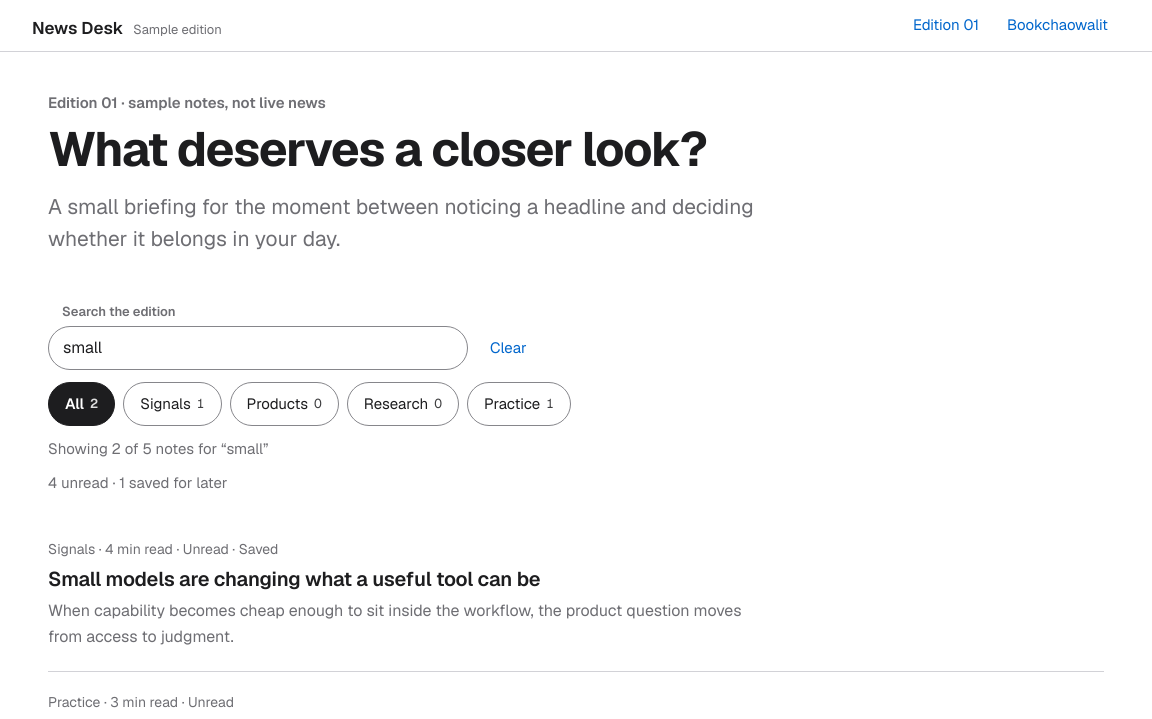
Scenario: follow-ups › keeps search and beat in the URL fragment (never sent to the server) and in story links; Back returns to the same cut
Later steps or results of the test are not shown.
Expected: the search field labelled "Search the edition" holds "small", x1=48 y1=326 x2=468 y2=370
Step 1. Click the button "Practice 1" → x=519, y=404, box x1=467 y1=382 x2=571 y2=426
Wait 400 ms
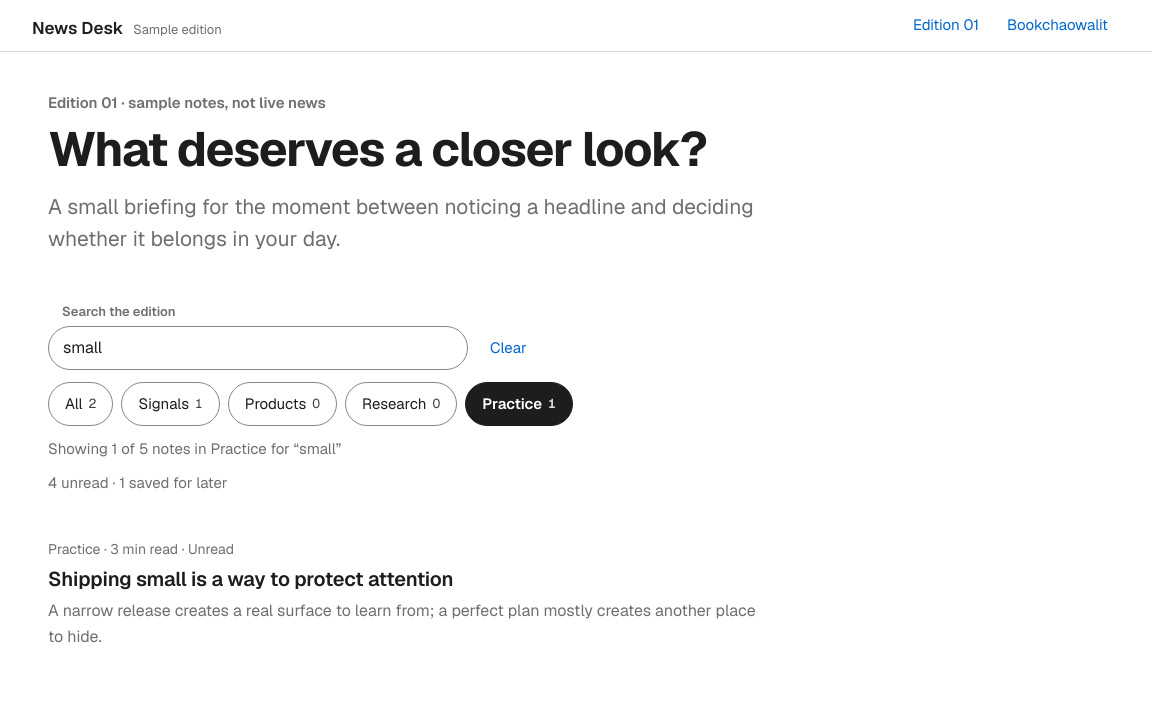
Now the link with class "rs-entry-link" has attribute href="/stories/shipping#beat=Practice&q=small", box x1=48 y1=566 x2=453 y2=592
